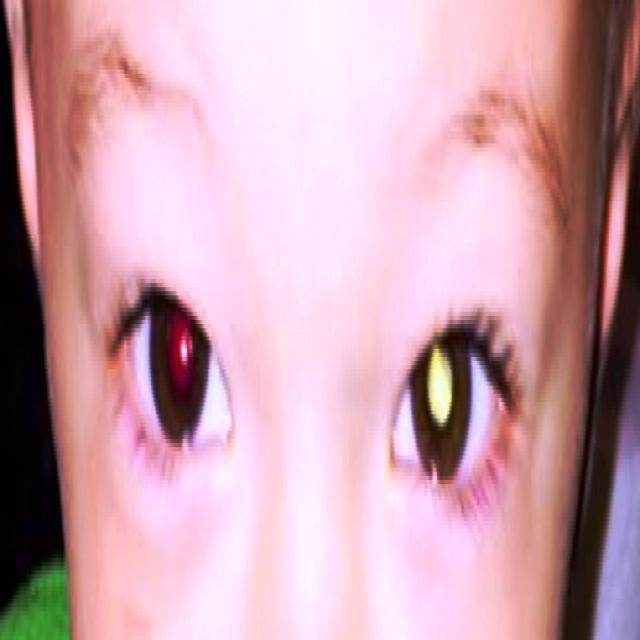reflexo-alterado: (397, 317, 509, 517)
reflexo-normal: (122, 298, 225, 457)
